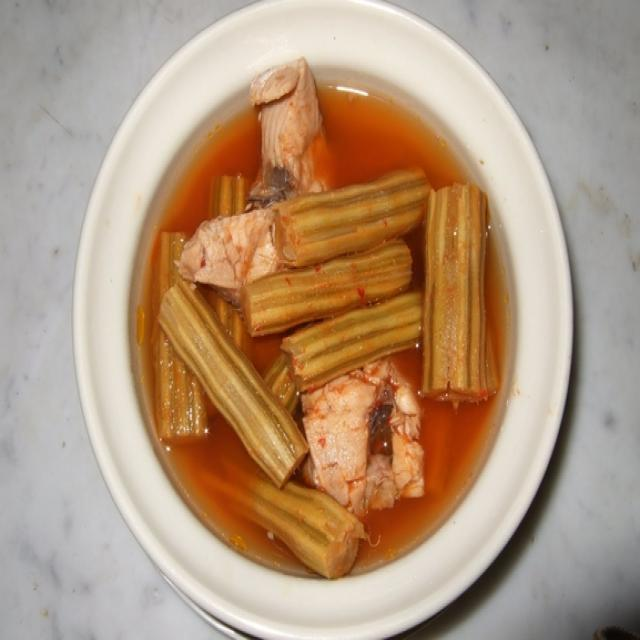汤锅炖物: (91, 28, 569, 618)
